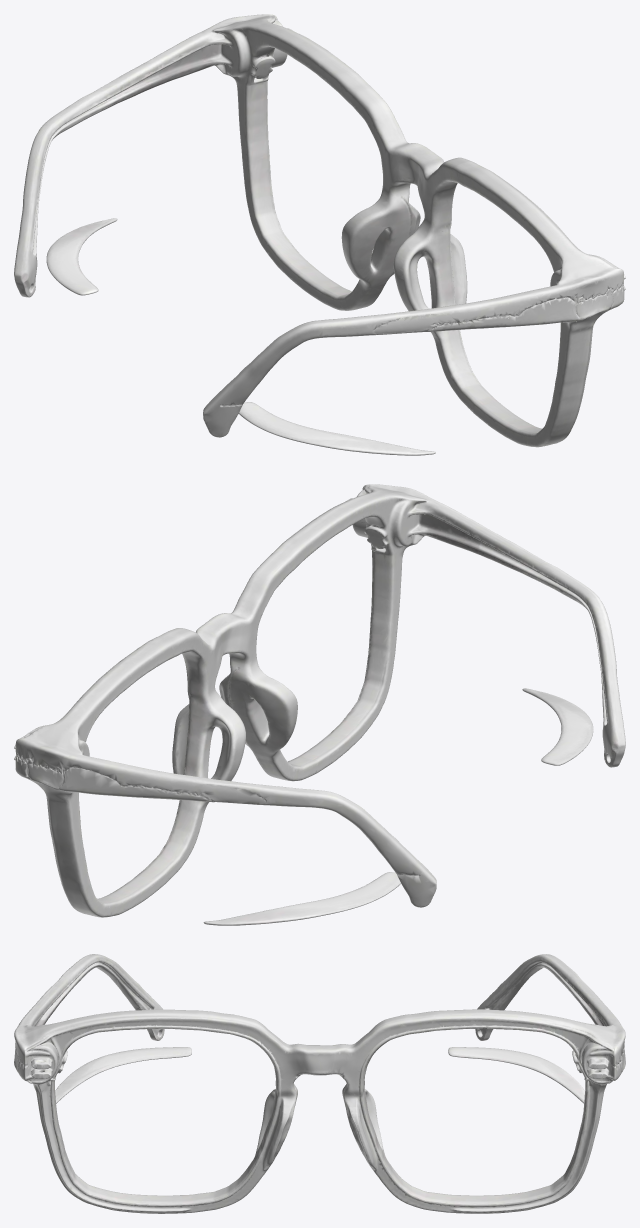
Rendered from ochki_4_optimized.glb.
3 views of the same model, one above another, from view 1: azimuth 30°, elevation 25°; view 2: azimuth 150°, elevation 25°; view 3: azimuth 270°, elevation 25° (orthographic). The views are drawn at different scales.
Visible parts, largest first — view 1: tripo_node_4ece1217-263f-47ae-966f-25c12dccccf6; view 2: tripo_node_4ece1217-263f-47ae-966f-25c12dccccf6; view 3: tripo_node_4ece1217-263f-47ae-966f-25c12dccccf6.
Part boxes in pixels (x1,y1,x2,y2): tripo_node_4ece1217-263f-47ae-966f-25c12dccccf6: (14,14,625,455); tripo_node_4ece1217-263f-47ae-966f-25c12dccccf6: (14,484,625,925); tripo_node_4ece1217-263f-47ae-966f-25c12dccccf6: (14,954,625,1213).
Size of the model in its own units: 0.548 by 0.3553 by 0.9808.
1 material, 1 textured.
